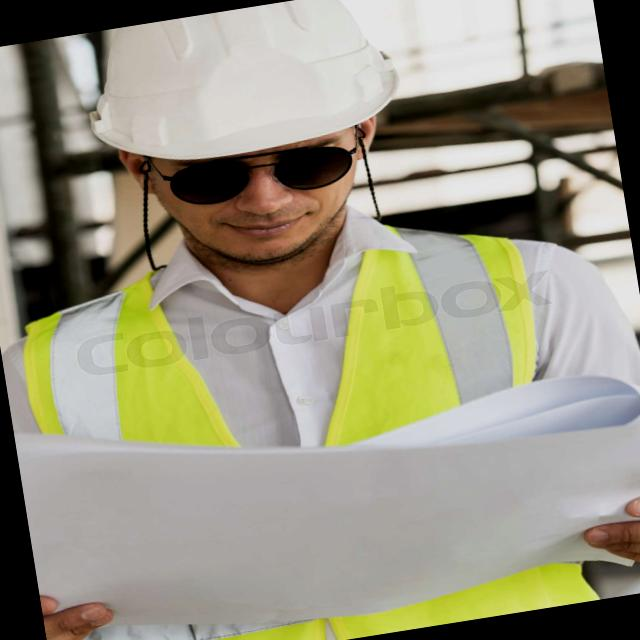goggles: (126, 119, 383, 221)
helmet: (81, 0, 422, 195)
vest: (8, 197, 640, 640)
